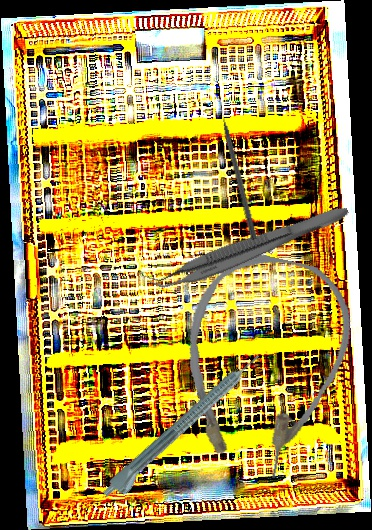Cannula: (160, 242, 365, 488)
Handpiece: (99, 349, 270, 508)
Pusher: (216, 99, 259, 241)
Tissue Forceps: (144, 192, 352, 302)
